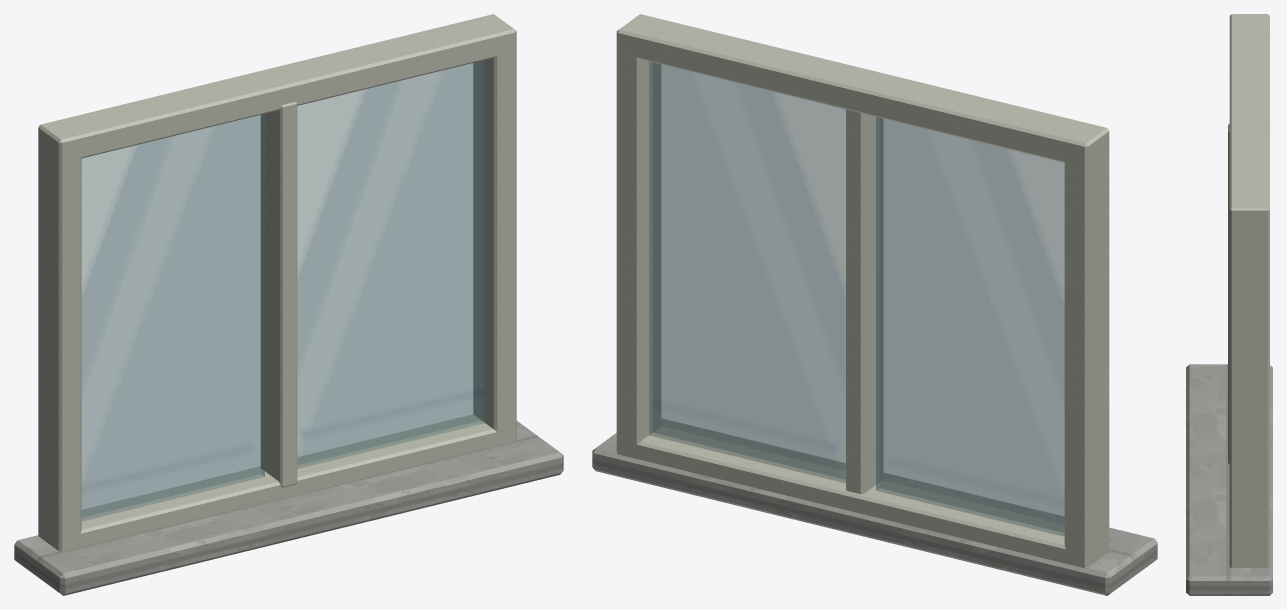
Rendered from MD_11_WindowFrame.fbx.
The picture shows the model from 3 angles, left to right: view 1: azimuth 30°, elevation 25°; view 2: azimuth 150°, elevation 25°; view 3: azimuth 270°, elevation 25°; orthographic projection. The views are drawn at different scales.
Visible parts, largest first — view 1: MD_11_WindowFrame_glass_pane.001, MD_11_WindowFrame_glass_pane, MD_11_WindowFrame_projecting_sill, MD_11_WindowFrame_window_crossbar.001, MD_11_WindowFrame_window_upright, MD_11_WindowFrame_window_upright.001, MD_11_WindowFrame_window_crossbar, MD_11_WindowFrame_central_mullion; view 2: MD_11_WindowFrame_glass_pane.001, MD_11_WindowFrame_glass_pane, MD_11_WindowFrame_window_crossbar.001, MD_11_WindowFrame_window_upright, MD_11_WindowFrame_window_upright.001, MD_11_WindowFrame_projecting_sill, MD_11_WindowFrame_window_crossbar, MD_11_WindowFrame_central_mullion; view 3: MD_11_WindowFrame_window_upright.001, MD_11_WindowFrame_projecting_sill, MD_11_WindowFrame_window_crossbar.001, MD_11_WindowFrame_central_mullion, MD_11_WindowFrame_window_crossbar, MD_11_WindowFrame_window_upright.
Boxes of the visible parts, left/top/right/bottom form: MD_11_WindowFrame_glass_pane.001: left=297, top=60, right=484, bottom=468; MD_11_WindowFrame_glass_pane: left=81, top=114, right=264, bottom=520; MD_11_WindowFrame_projecting_sill: left=14, top=421, right=563, bottom=595; MD_11_WindowFrame_window_crossbar.001: left=38, top=14, right=516, bottom=161; MD_11_WindowFrame_window_upright: left=38, top=124, right=81, bottom=551; MD_11_WindowFrame_window_upright.001: left=473, top=16, right=516, bottom=441; MD_11_WindowFrame_window_crossbar: left=63, top=414, right=516, bottom=548; MD_11_WindowFrame_central_mullion: left=261, top=102, right=297, bottom=487; MD_11_WindowFrame_glass_pane.001: left=649, top=61, right=845, bottom=482; MD_11_WindowFrame_glass_pane: left=876, top=117, right=1064, bottom=536; MD_11_WindowFrame_window_crossbar.001: left=616, top=14, right=1109, bottom=166; MD_11_WindowFrame_window_upright: left=1064, top=123, right=1109, bottom=567; MD_11_WindowFrame_window_upright.001: left=616, top=15, right=660, bottom=457; MD_11_WindowFrame_projecting_sill: left=592, top=418, right=1157, bottom=595; MD_11_WindowFrame_window_crossbar: left=616, top=426, right=1109, bottom=567; MD_11_WindowFrame_central_mullion: left=846, top=109, right=883, bottom=494; MD_11_WindowFrame_window_upright.001: left=1229, top=202, right=1269, bottom=567; MD_11_WindowFrame_projecting_sill: left=1186, top=364, right=1272, bottom=595; MD_11_WindowFrame_window_crossbar.001: left=1229, top=14, right=1269, bottom=227; MD_11_WindowFrame_central_mullion: left=1228, top=124, right=1229, bottom=464; MD_11_WindowFrame_window_crossbar: left=1229, top=555, right=1269, bottom=567; MD_11_WindowFrame_window_upright: left=1231, top=14, right=1268, bottom=21.
Size of the model in its own units: 1.76 by 1.45 by 0.3.
3 materials, 3 textured.
